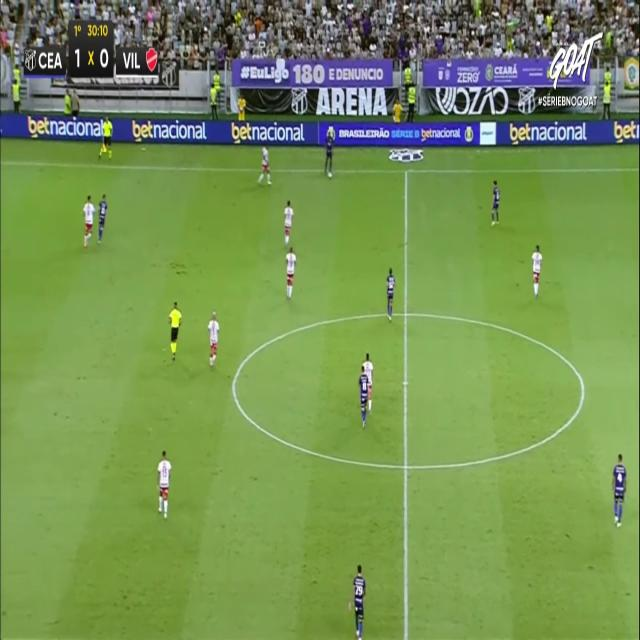ball: (326, 167, 335, 186)
player: (612, 453, 627, 527), (353, 563, 366, 638), (157, 450, 171, 519), (359, 364, 370, 428), (82, 194, 95, 247), (207, 310, 219, 366), (531, 244, 542, 299), (285, 245, 296, 299), (257, 145, 271, 185), (386, 267, 396, 321), (324, 124, 334, 178), (97, 193, 107, 243), (283, 199, 293, 245), (490, 180, 500, 226)
referee: (168, 300, 182, 360), (98, 116, 112, 159)
